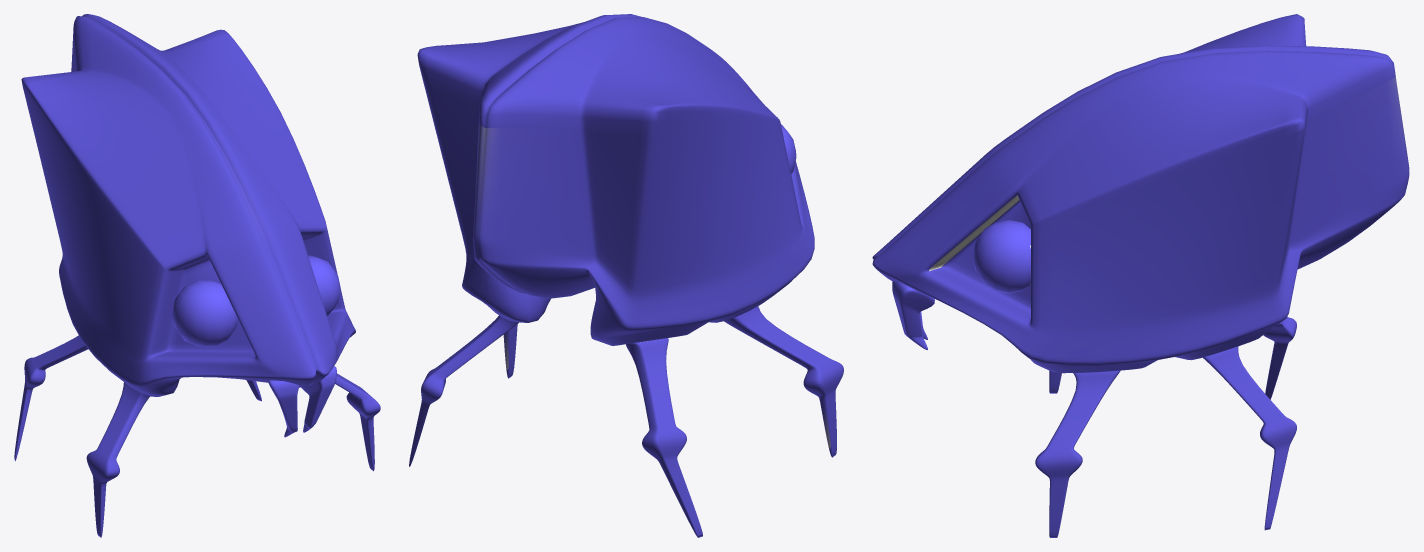
The model's file is Flea_PROP.fbx.
3 renders of one model, left to right at view 1: azimuth 30°, elevation 25°; view 2: azimuth 150°, elevation 25°; view 3: azimuth 270°, elevation 25°, orthographic. The views are drawn at different scales.
Visible parts, largest first — view 1: Flea; view 2: Flea; view 3: Flea.
Part boxes in pixels (x1,y1,x2,y2): Flea: [14, 14, 380, 537]; Flea: [409, 14, 843, 537]; Flea: [872, 14, 1409, 537].
Bounding box in the file's own units: 38.02 × 50.55 × 59.05.
